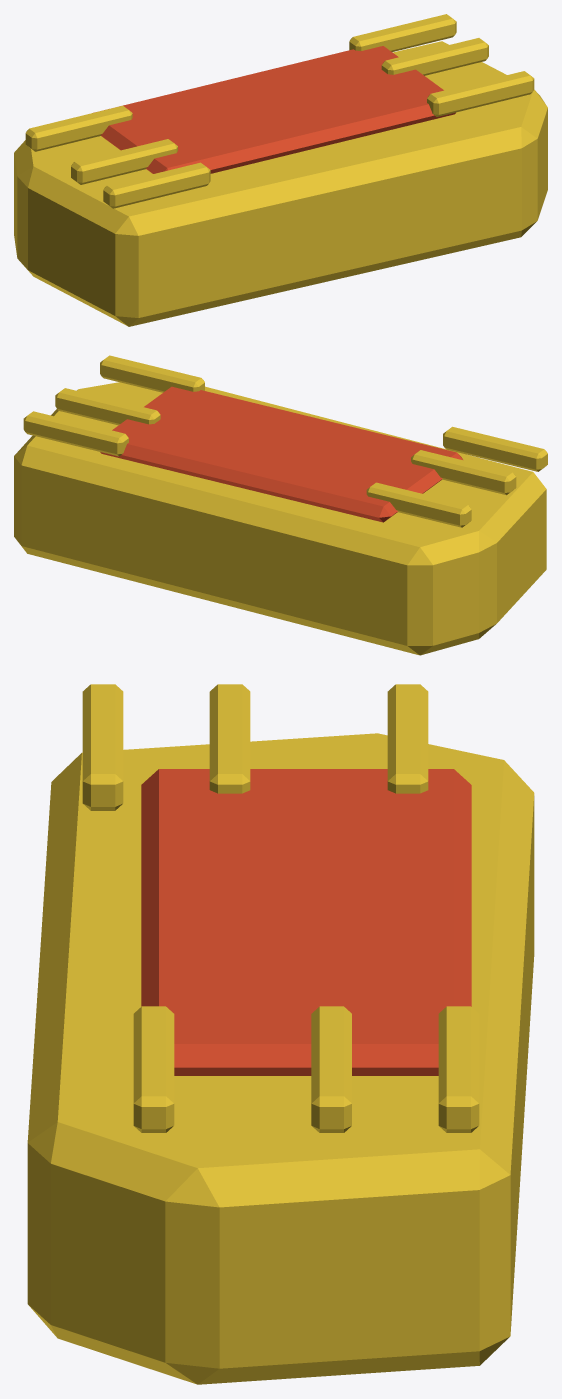
Rendered from item_chips.glb.
3 renders of one model, top to bottom at view 1: azimuth 30°, elevation 25°; view 2: azimuth 150°, elevation 25°; view 3: azimuth 270°, elevation 25°, orthographic. The views are drawn at different scales.
Visible parts, largest first — view 1: item_chips; view 2: item_chips; view 3: item_chips.
Part boxes in pixels (bbox=[...]): item_chips: bbox=[14, 14, 547, 326]; item_chips: bbox=[14, 355, 547, 655]; item_chips: bbox=[27, 684, 534, 1384].
Size of the model in its own units: 0.2131 by 0.059 by 0.0997.
